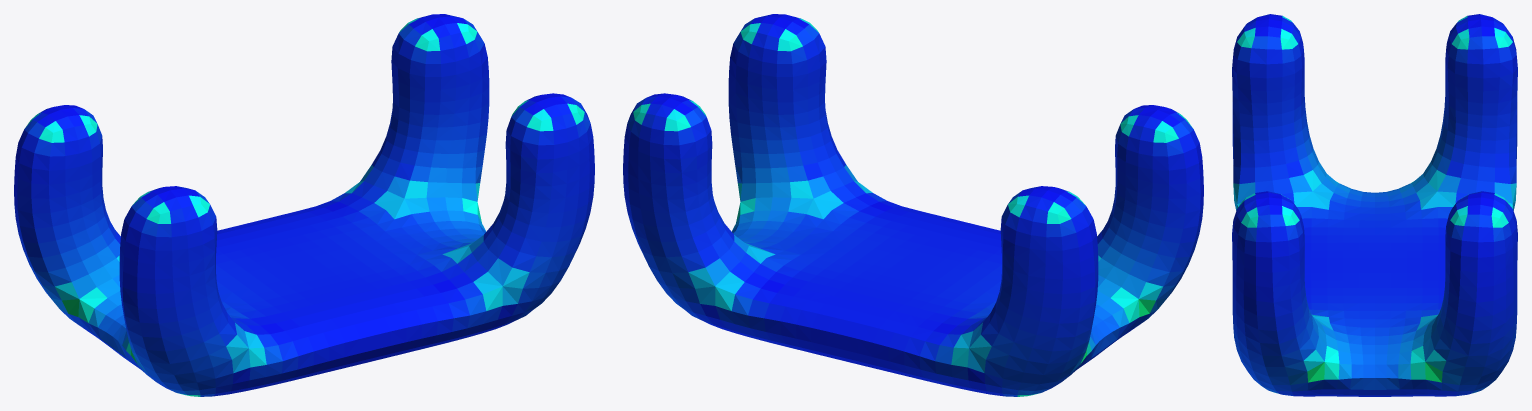
The model's file is table_opt_quality.obj.
3 renders of one model, left to right at view 1: azimuth 30°, elevation 25°; view 2: azimuth 150°, elevation 25°; view 3: azimuth 270°, elevation 25°, orthographic. The views are drawn at different scales.
Size of the model in its own units: 3.89 by 1.77 by 2.13.
